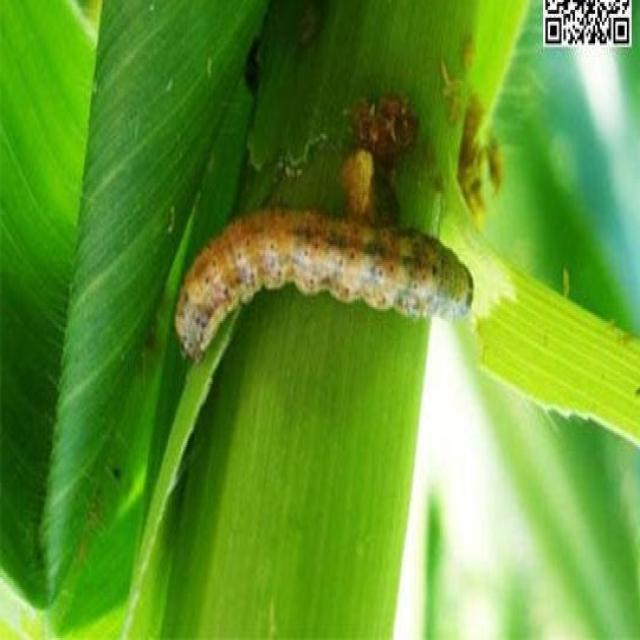army worm: (171, 211, 477, 362)
